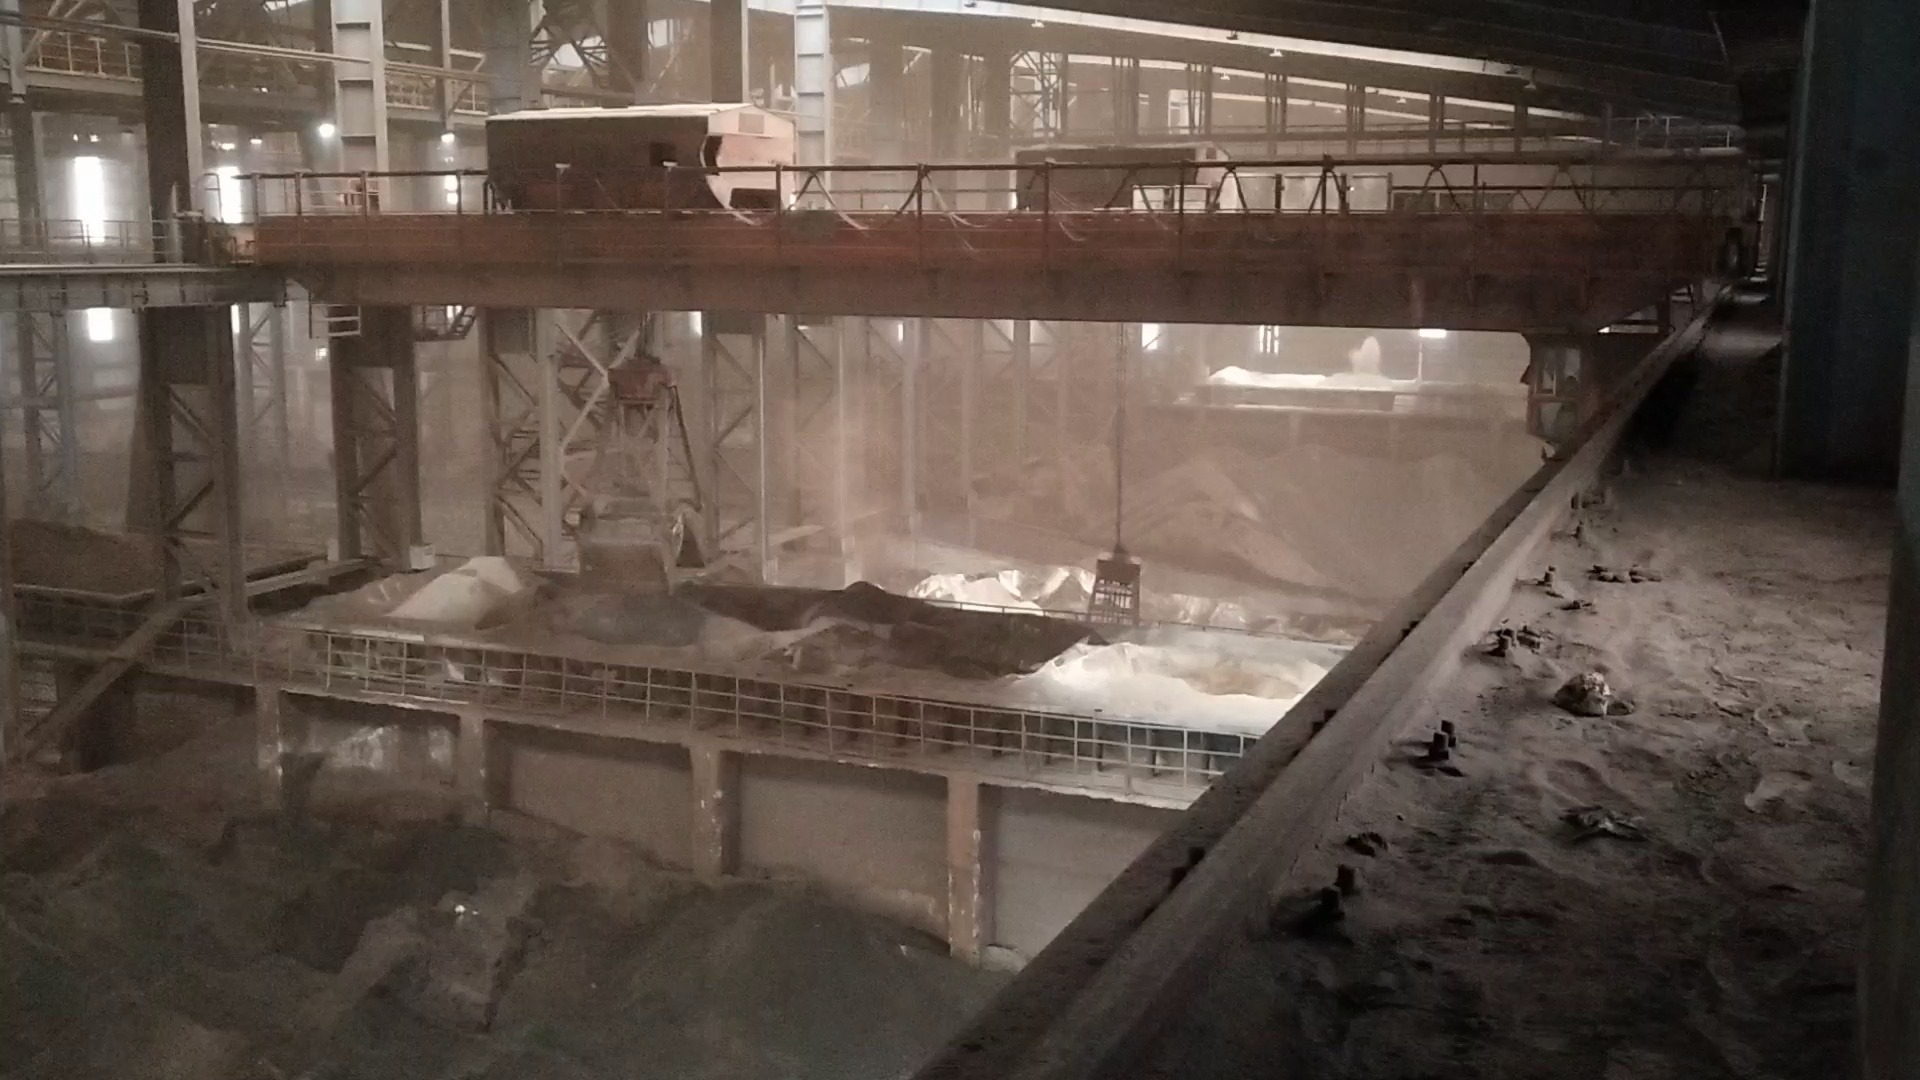dust: (744, 381, 924, 584)
grab: (567, 345, 724, 596), (1073, 531, 1147, 630)
